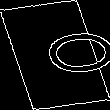O_W: (8, 28, 102, 82)
